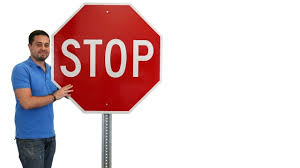stop sign: (50, 2, 163, 114)
